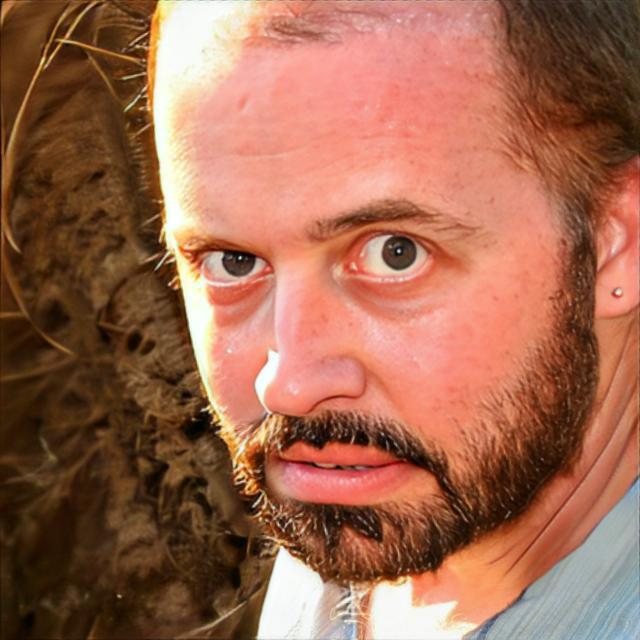fear: (152, 0, 594, 589)
